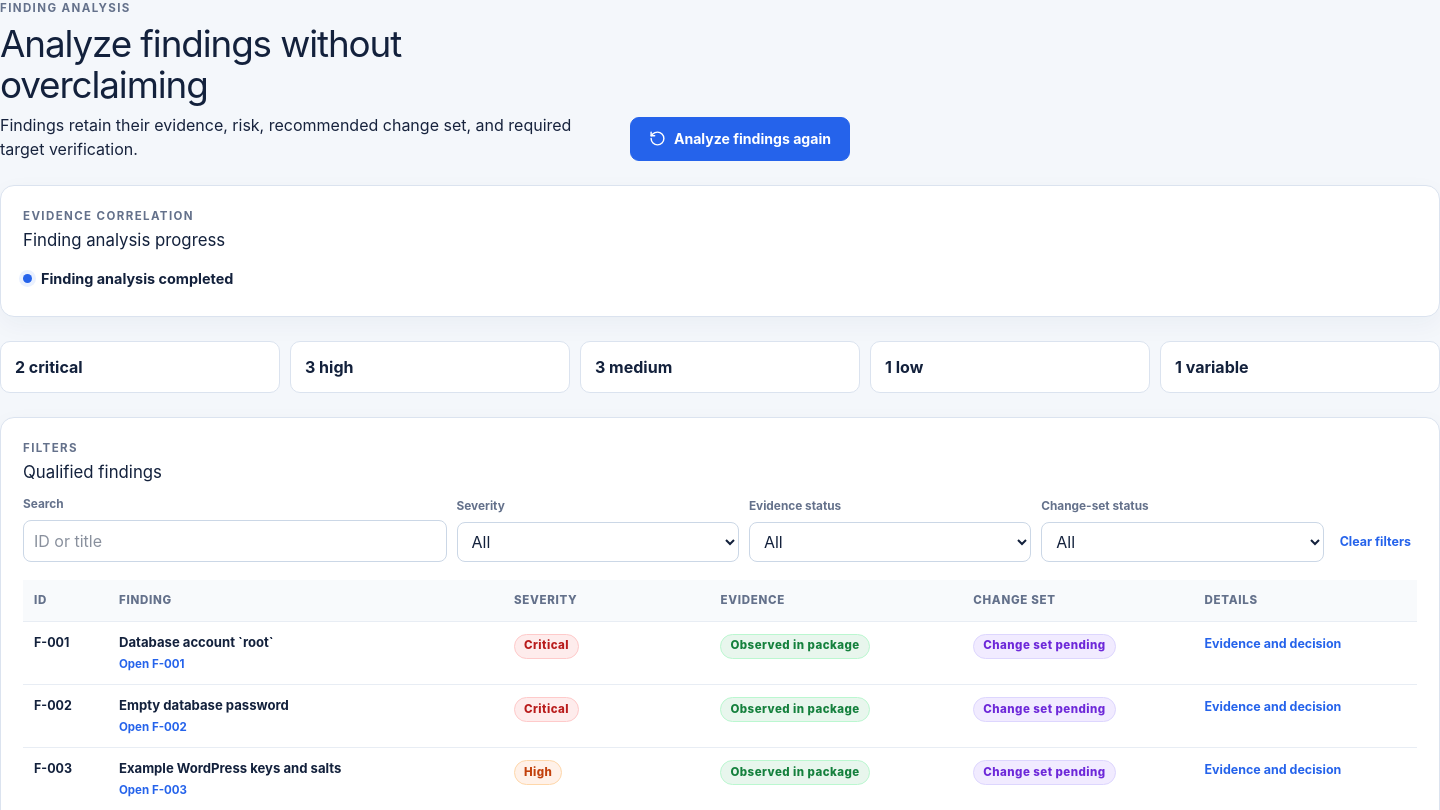
Test: filters critical findings and restores all rows
Select "Critical" in the dropdown labelled "Severity" at (598, 542), box [456,522,739,562]
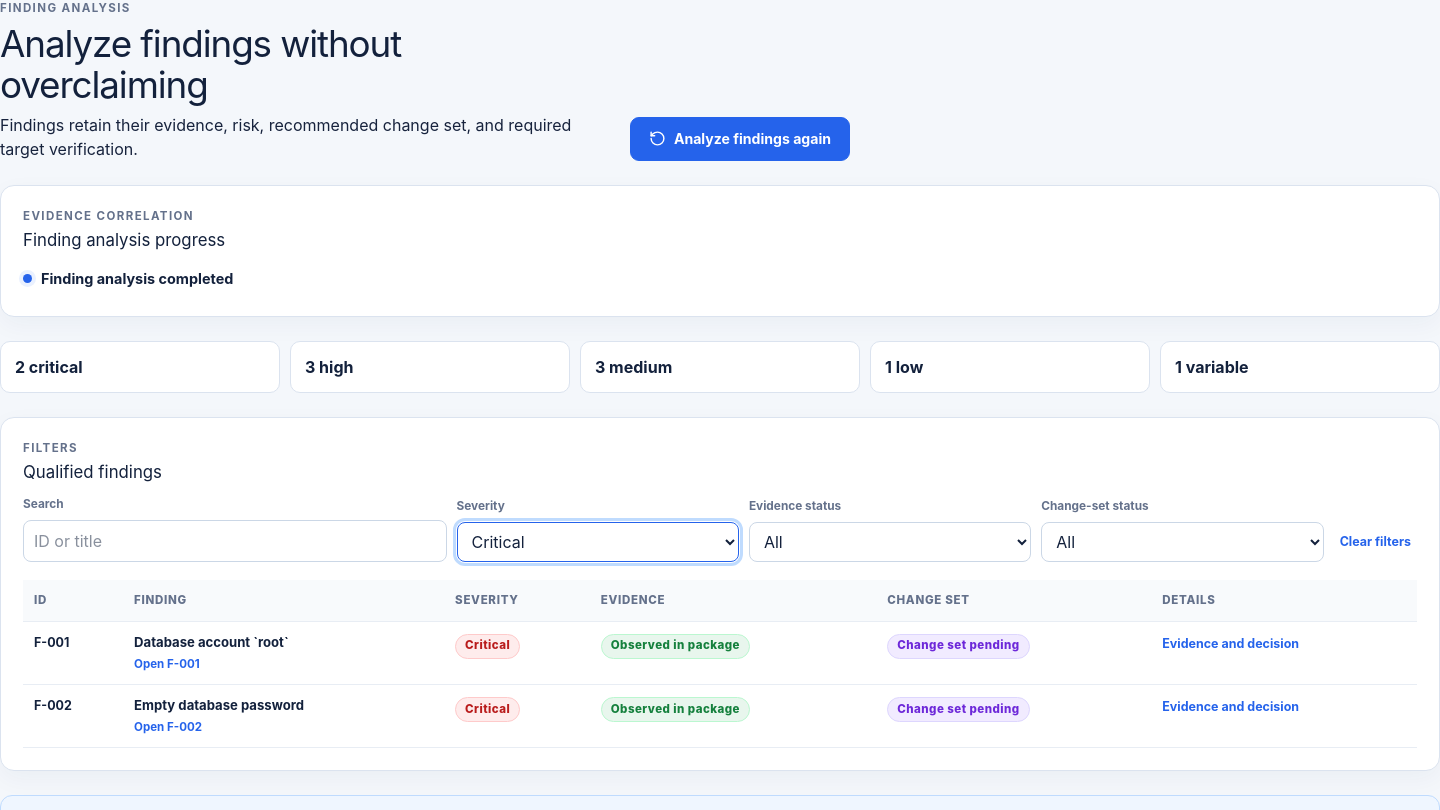
Expected: the column heading "F-001" is shown, [23,622,123,685]
Result: the number of rows is 3 at [23,580,1417,621]; [23,622,1417,685]; [23,685,1417,748]
Click the button "Clear filters" at (1375, 542), box [1334,523,1417,562]
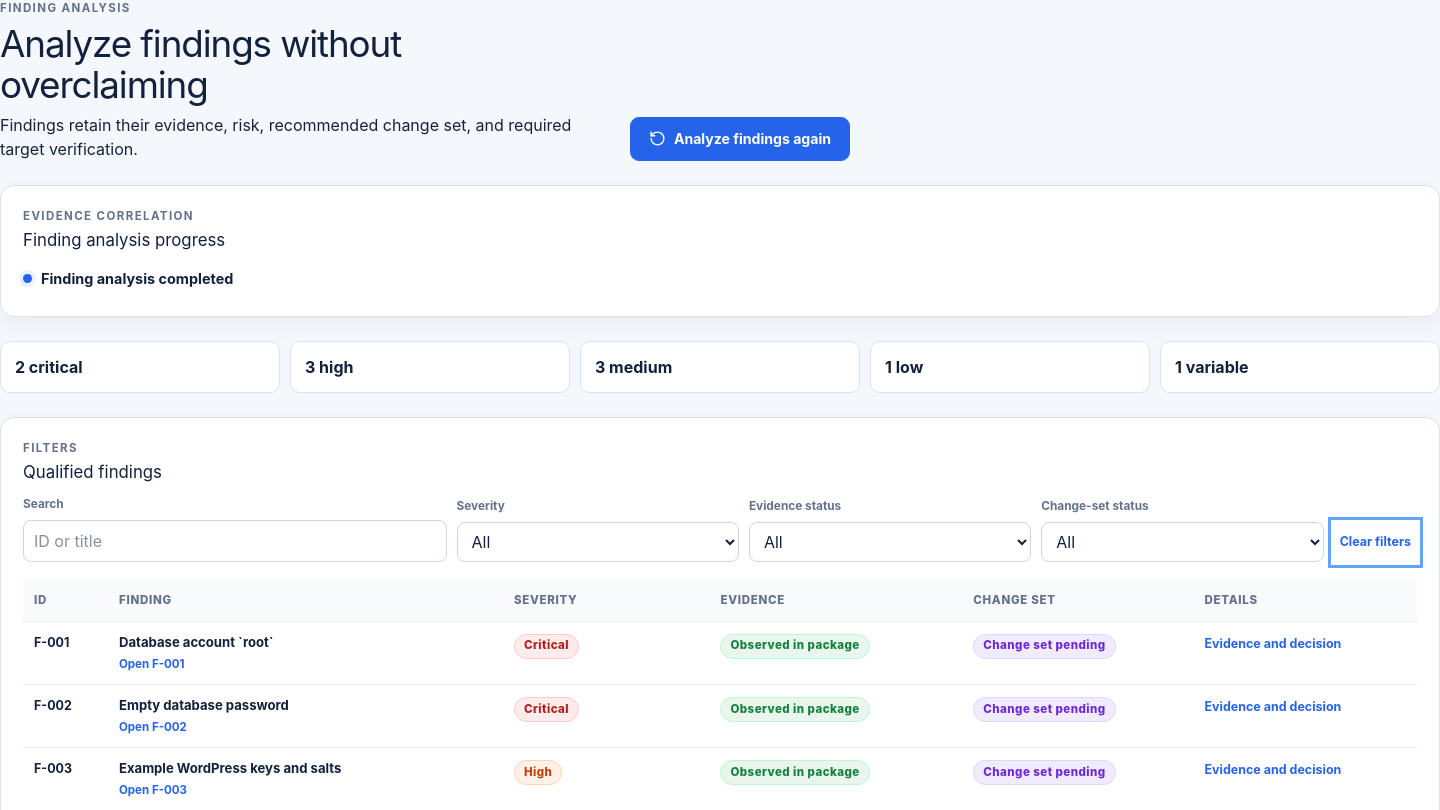
Result: the number of rows is 11
